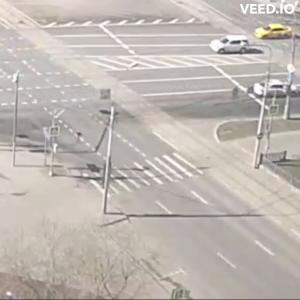car: (211, 35, 253, 56), (255, 24, 296, 42), (253, 79, 287, 99), (289, 85, 300, 98)
